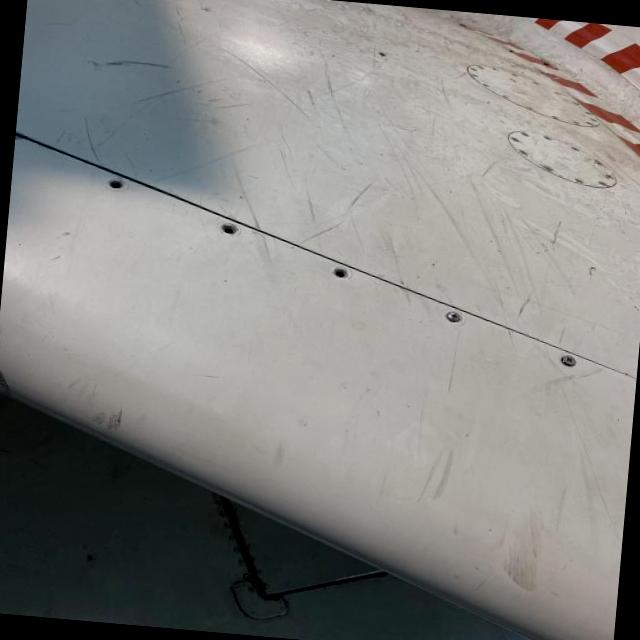Missing Fastener: (332, 263, 353, 279), (106, 174, 127, 188), (214, 224, 234, 238)
